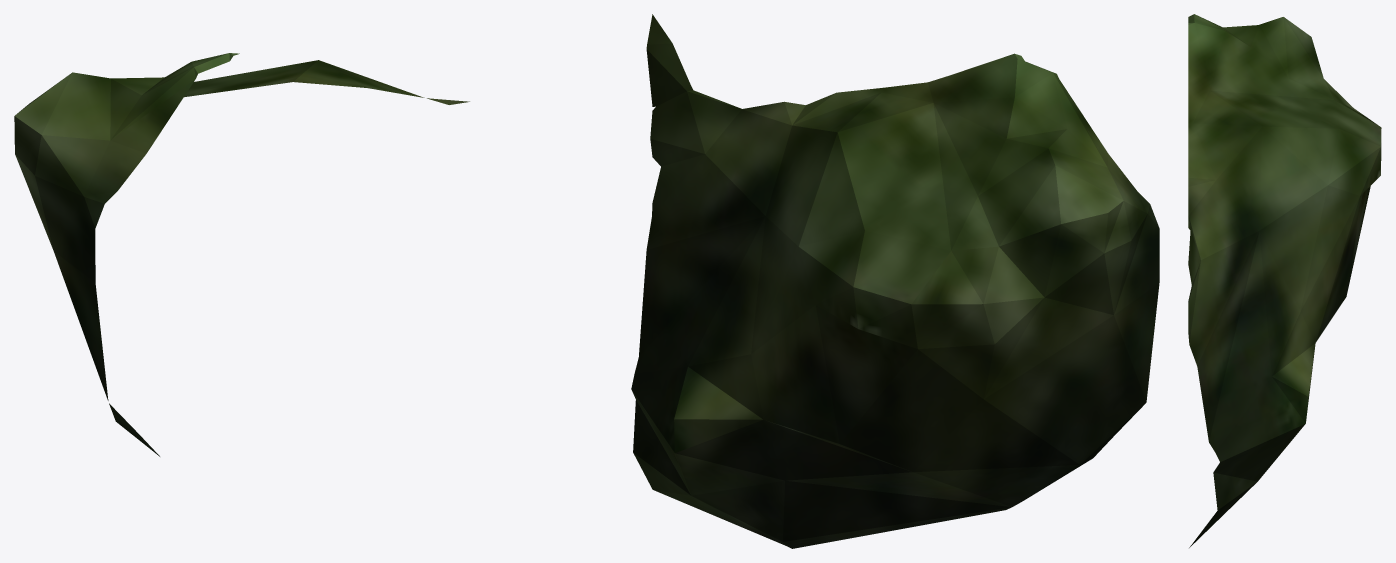
3 views of the same model, side by side, from view 1: azimuth 30°, elevation 25°; view 2: azimuth 150°, elevation 25°; view 3: azimuth 270°, elevation 25° (orthographic). The views are drawn at different scales.
Size of the model in its own units: 0.325 by 0.3262 by 0.1389.
1 material, 1 textured.
